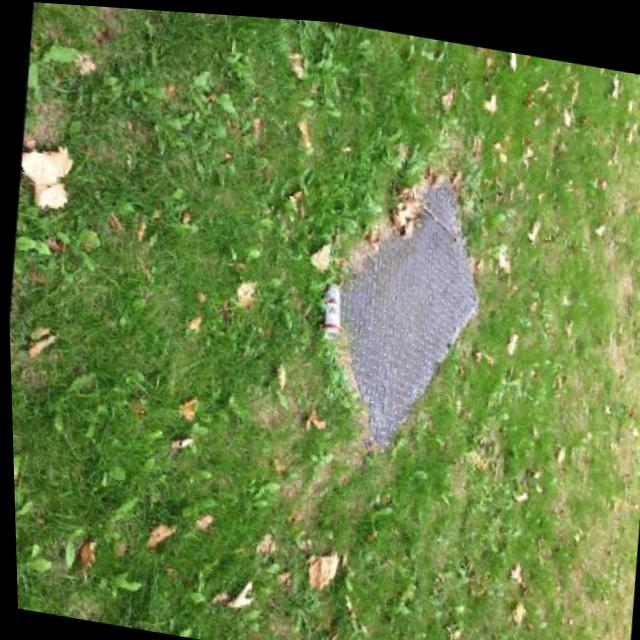metal: (317, 281, 343, 340)
